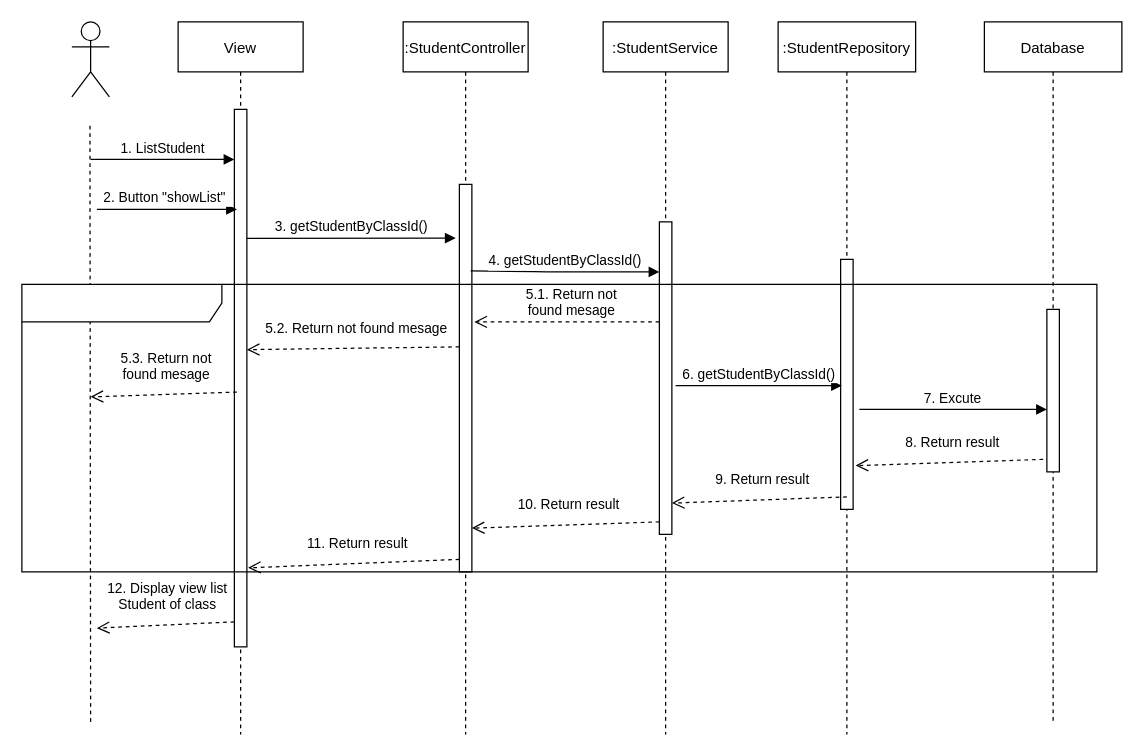
Some shapes in this 1144 by 756 pixel diagram are drawn without their labels. Each missing label, with the centre of its shape:
"Actor" goes at pixel 90 59.
"alt getSudentByClassId" goes at pixel 559 427.
